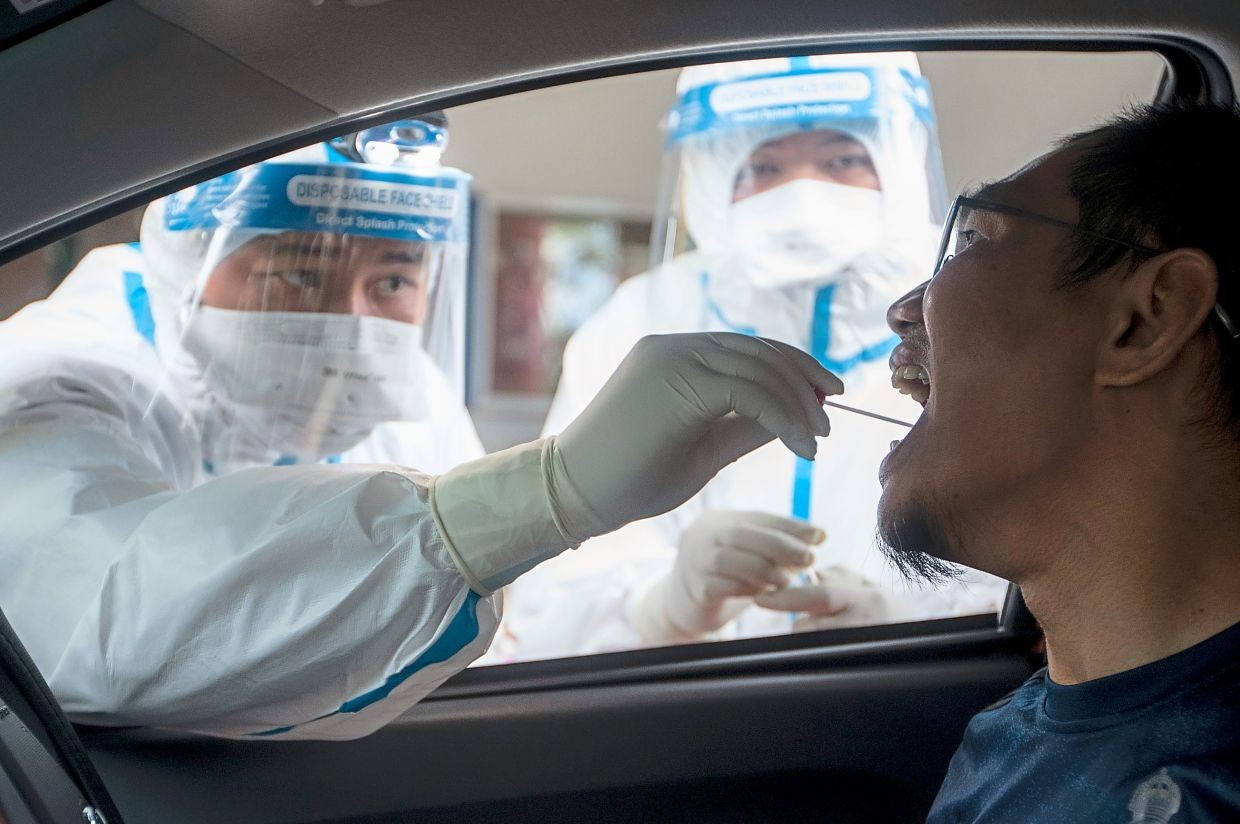Coverall: (1, 261, 511, 758)
Gloves: (423, 318, 850, 598)
face_shield: (209, 157, 470, 463), (660, 66, 933, 357)
with_mask: (219, 245, 439, 466), (730, 129, 877, 304)
without_mask: (865, 213, 1021, 586)
